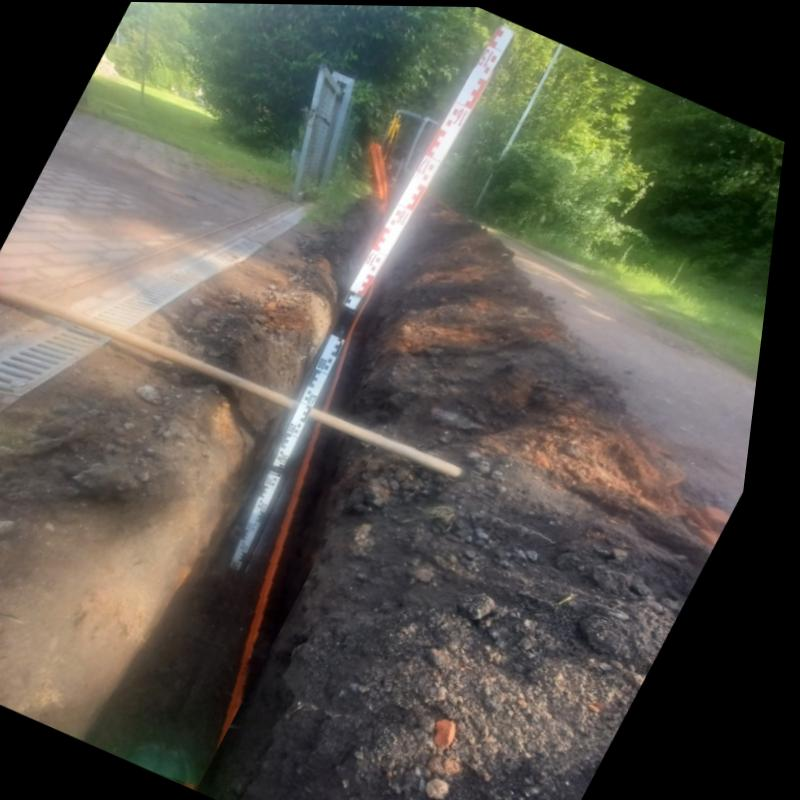Orang-Speednetrohrchen: (222, 419, 332, 776)
